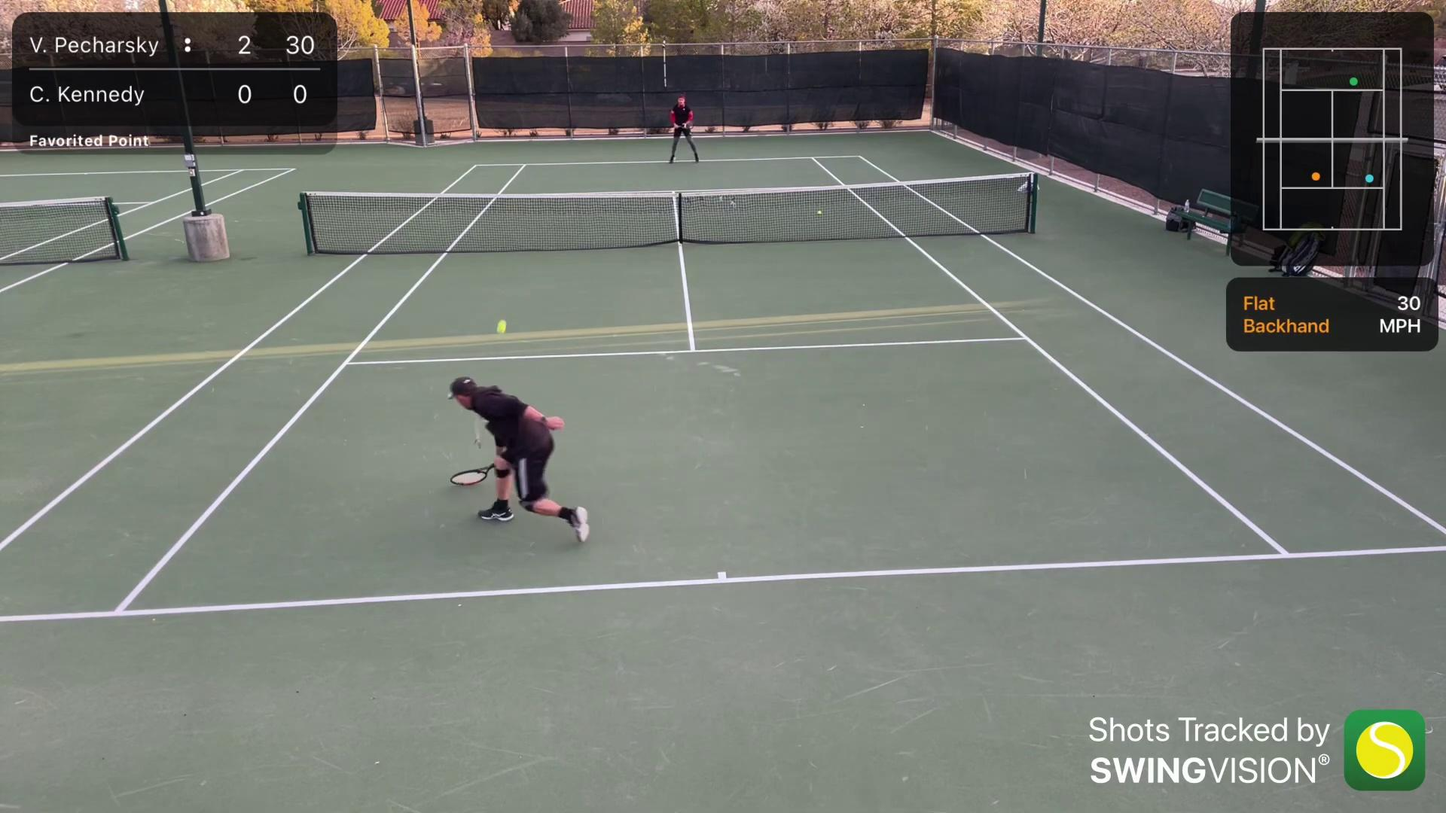ball: (493, 319, 509, 336), (816, 210, 822, 215)
